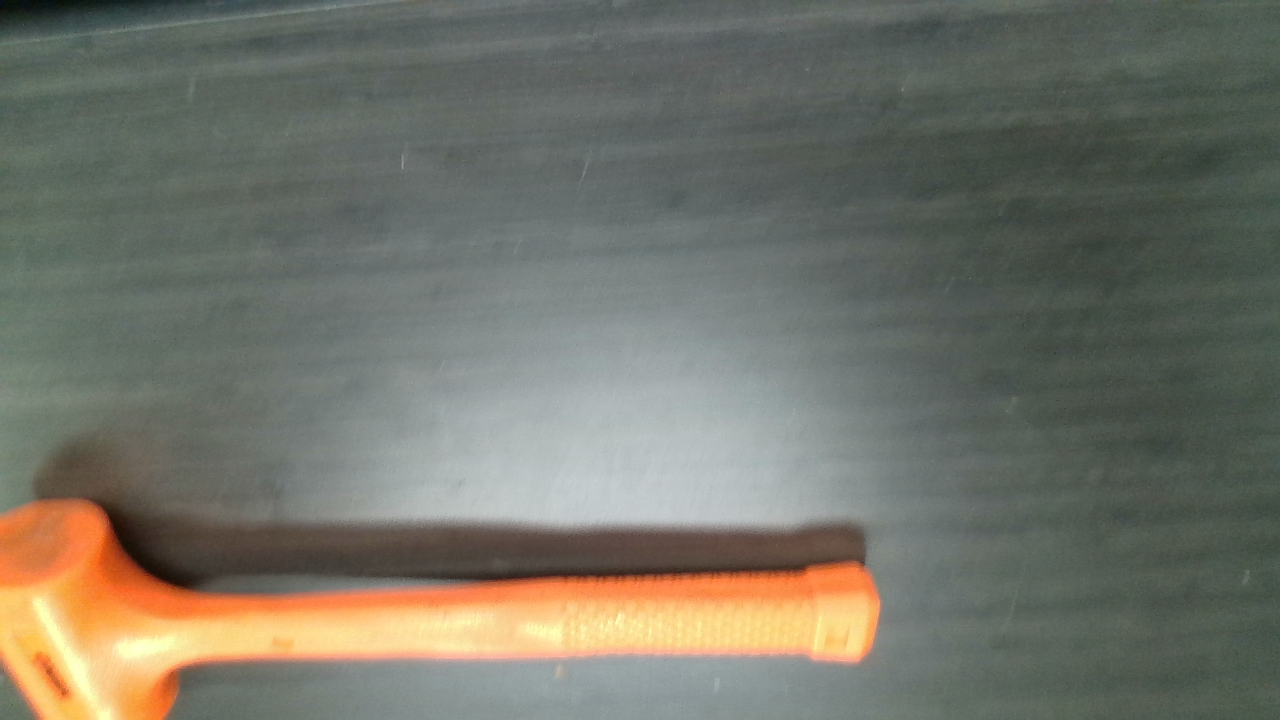Orange Hammer: (7, 502, 881, 717)
